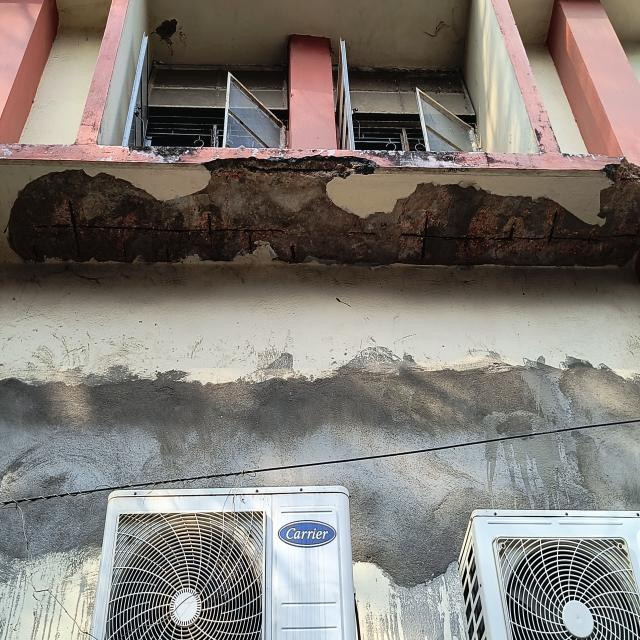Incomplete Plaster Work: (0, 360, 640, 588)
Spalling: (5, 156, 640, 266)
pollution -moisture induced blackening: (0, 144, 618, 169), (155, 18, 178, 45)
